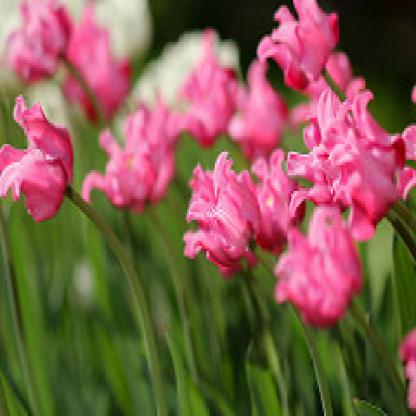TULIP: (10, 12, 405, 399)
